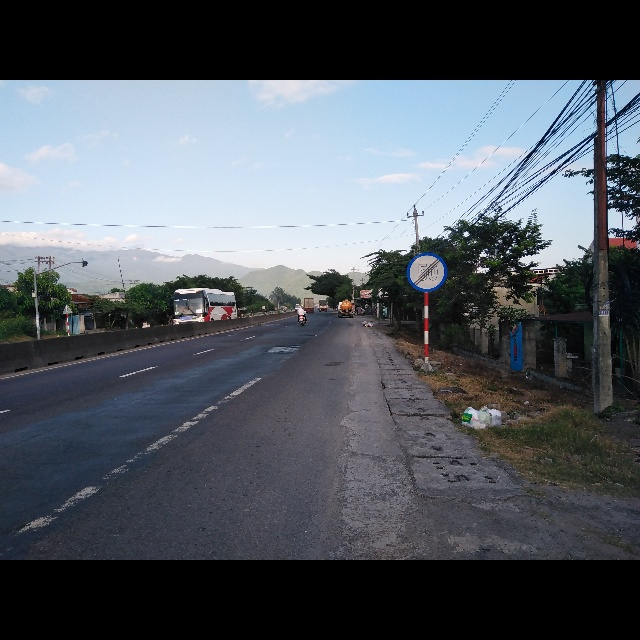Hết hạn chế tốc độ tối đa 50km/h: (406, 252, 448, 291)
